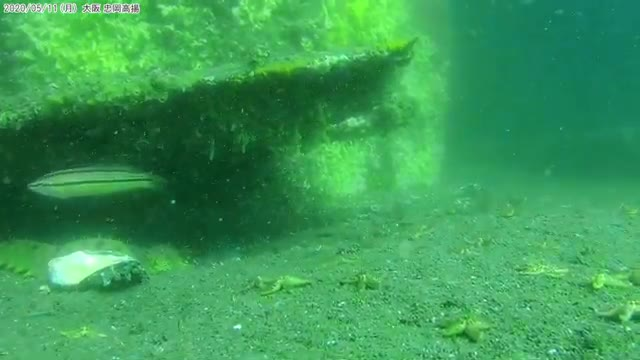bera: (19, 159, 180, 205)
